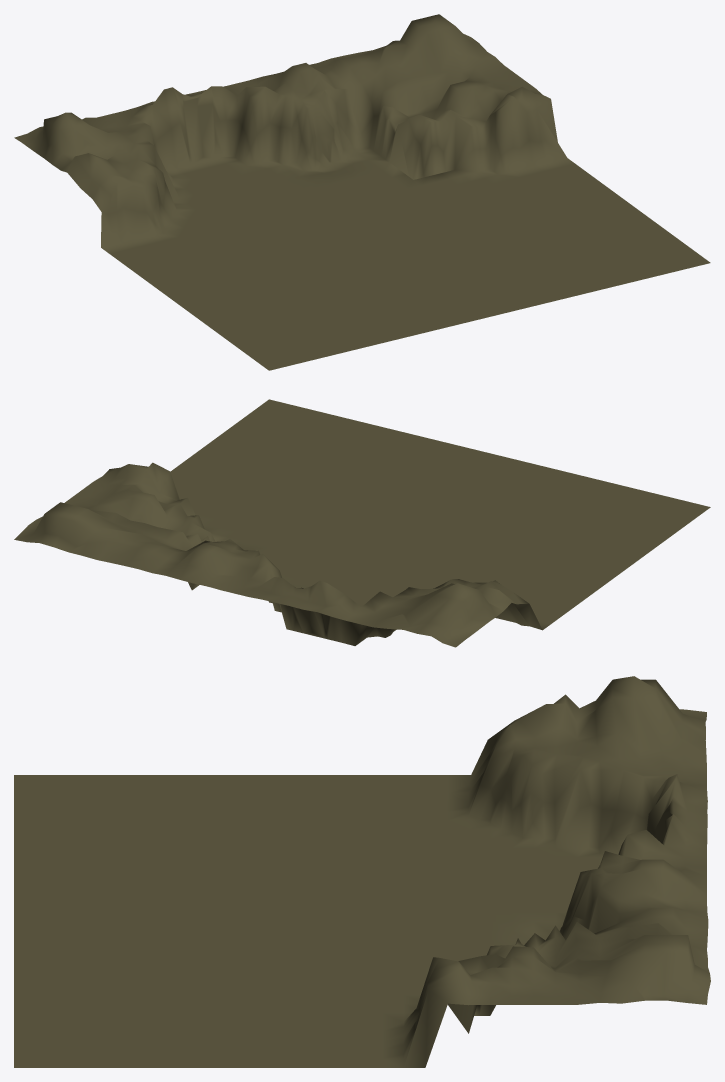
File: landscape2.glb
3 views of the same model, one above another, from view 1: azimuth 30°, elevation 25°; view 2: azimuth 150°, elevation 25°; view 3: azimuth 270°, elevation 25° (orthographic). The views are drawn at different scales.
Parts seen in each view (by area): view 1: Plane; view 2: Plane; view 3: Plane.
Part boxes in pixels (bbox=[...]): Plane: bbox=[14, 14, 710, 370]; Plane: bbox=[14, 399, 710, 647]; Plane: bbox=[14, 676, 710, 1067].
Size of the model in its own units: 13.25 by 3.06 by 13.27.
